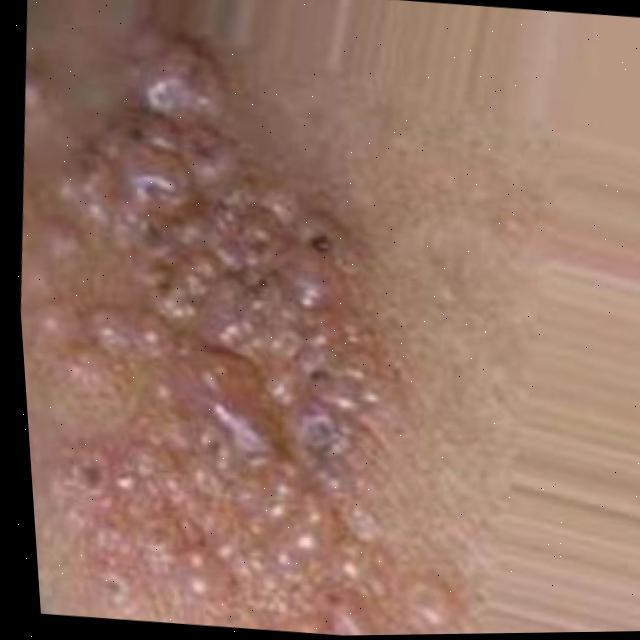Shingles: (2, 28, 506, 640)
